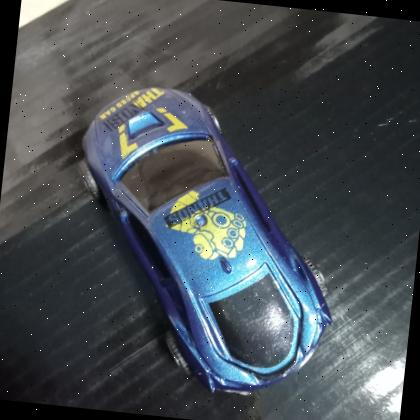Car: (81, 87, 331, 397)
